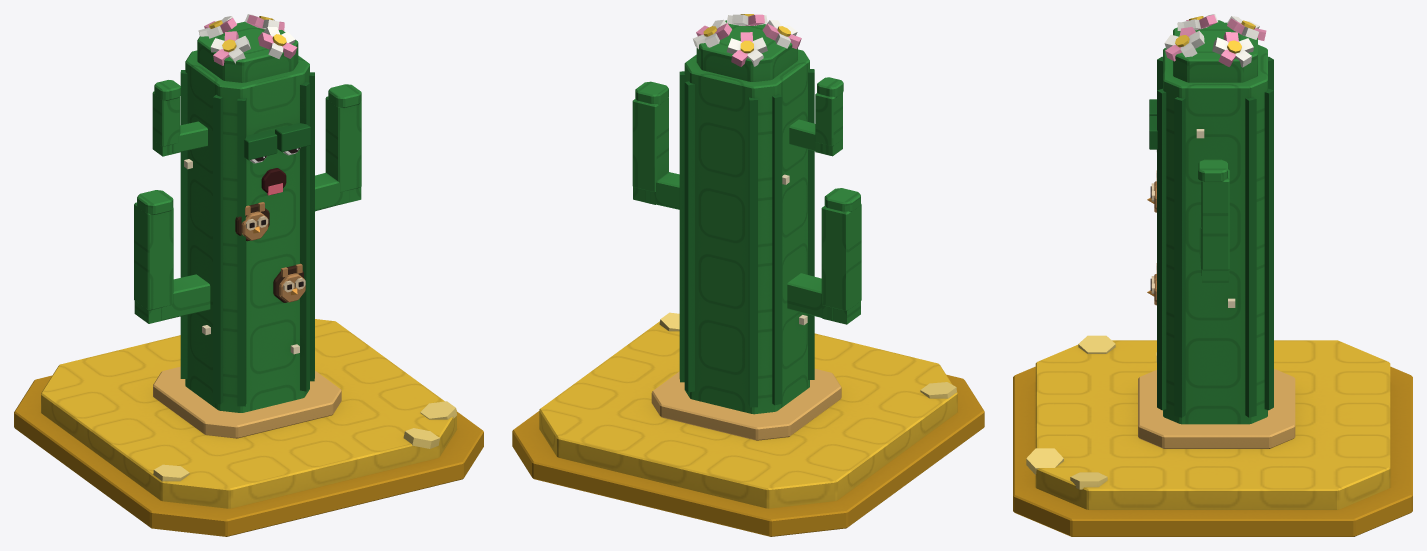
File: GiantCactus.fbx
The picture shows the model from 3 angles, left to right: view 1: azimuth 30°, elevation 25°; view 2: azimuth 150°, elevation 25°; view 3: azimuth 270°, elevation 25°; orthographic projection. The views are drawn at different scales.
Visible parts, largest first — view 1: Art_GiantCactus_Stand, Art_GiantCactus_Trunk, Art_GiantCactus_ArmA, Art_GiantCactus_ArmB, Art_GiantCactus_ArmC, Art_GiantCactus_Crown, Art_GiantCactus_OwlA, Art_GiantCactus_OwlB; view 2: Art_GiantCactus_Stand, Art_GiantCactus_Trunk, Art_GiantCactus_ArmA, Art_GiantCactus_ArmB, Art_GiantCactus_Crown, Art_GiantCactus_ArmC; view 3: Art_GiantCactus_Stand, Art_GiantCactus_Trunk, Art_GiantCactus_ArmB, Art_GiantCactus_Crown.
Boxes of the visible parts, box(x1,y1,x2,y2) form: Art_GiantCactus_Stand: box(14, 319, 483, 536); Art_GiantCactus_Trunk: box(180, 21, 314, 412); Art_GiantCactus_ArmA: box(134, 190, 210, 323); Art_GiantCactus_ArmB: box(315, 84, 361, 211); Art_GiantCactus_ArmC: box(152, 80, 207, 156); Art_GiantCactus_Crown: box(198, 14, 297, 65); Art_GiantCactus_OwlA: box(235, 203, 305, 302); Art_GiantCactus_OwlB: box(241, 202, 268, 240); Art_GiantCactus_Stand: box(512, 312, 984, 536); Art_GiantCactus_Trunk: box(679, 20, 814, 414); Art_GiantCactus_ArmA: box(787, 188, 861, 324); Art_GiantCactus_ArmB: box(632, 81, 679, 209); Art_GiantCactus_Crown: box(693, 14, 801, 66); Art_GiantCactus_ArmC: box(789, 77, 843, 156); Art_GiantCactus_Stand: box(1013, 335, 1412, 536); Art_GiantCactus_Trunk: box(1149, 22, 1273, 424); Art_GiantCactus_ArmB: box(1198, 159, 1229, 282); Art_GiantCactus_Crown: box(1164, 14, 1266, 67).
Bounding box in the file's own units: 3.2 × 3.79 × 3.2.
